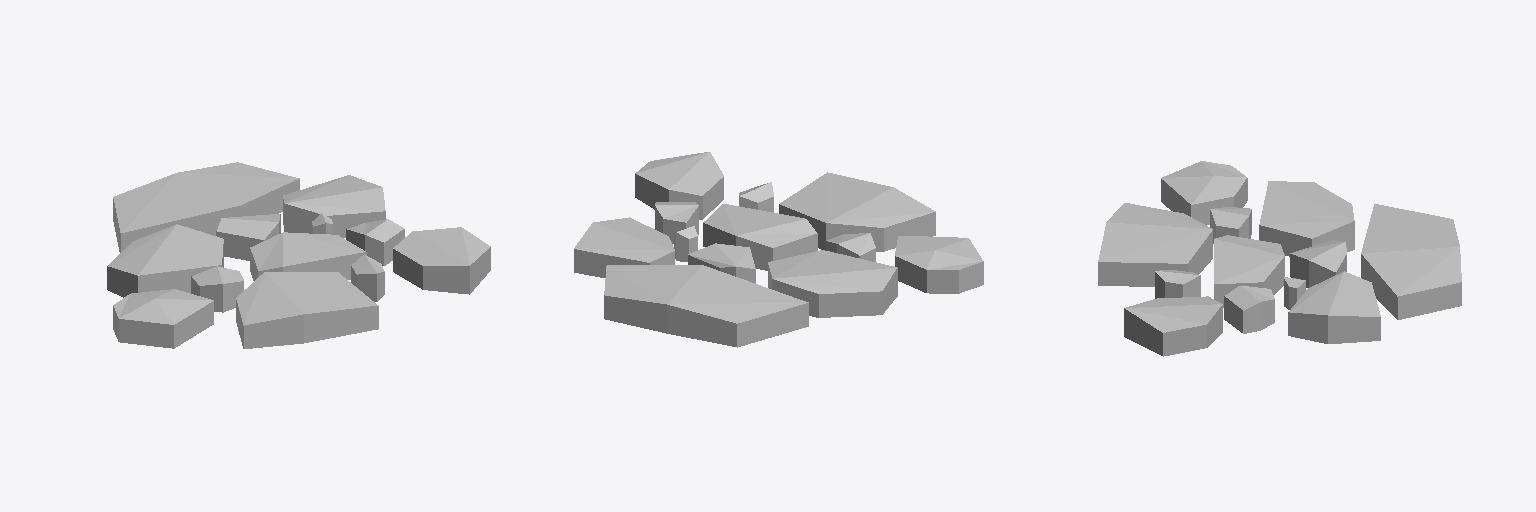
The model's file is cailloux_sol2.obj.
The picture shows the model from 3 angles: view 1: azimuth 30°, elevation 25°; view 2: azimuth 150°, elevation 25°; view 3: azimuth 270°, elevation 25°; orthographic projection.
Parts seen in each view (by area): view 1: lilC:Path2; view 2: lilC:Path2; view 3: lilC:Path2.
Part boxes in pixels (bbox=[...]): lilC:Path2: bbox=[107, 162, 490, 348]; lilC:Path2: bbox=[574, 152, 983, 347]; lilC:Path2: bbox=[1098, 161, 1461, 356].
Bounding box in the file's own units: 1.3 × 0.1027 × 1.16.